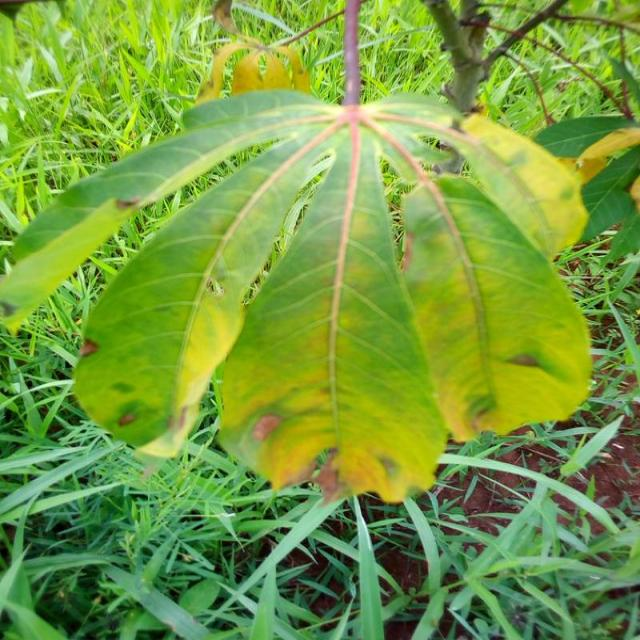cassava leaf: (9, 82, 594, 504), (72, 116, 342, 466), (215, 115, 449, 505), (400, 170, 594, 442)
